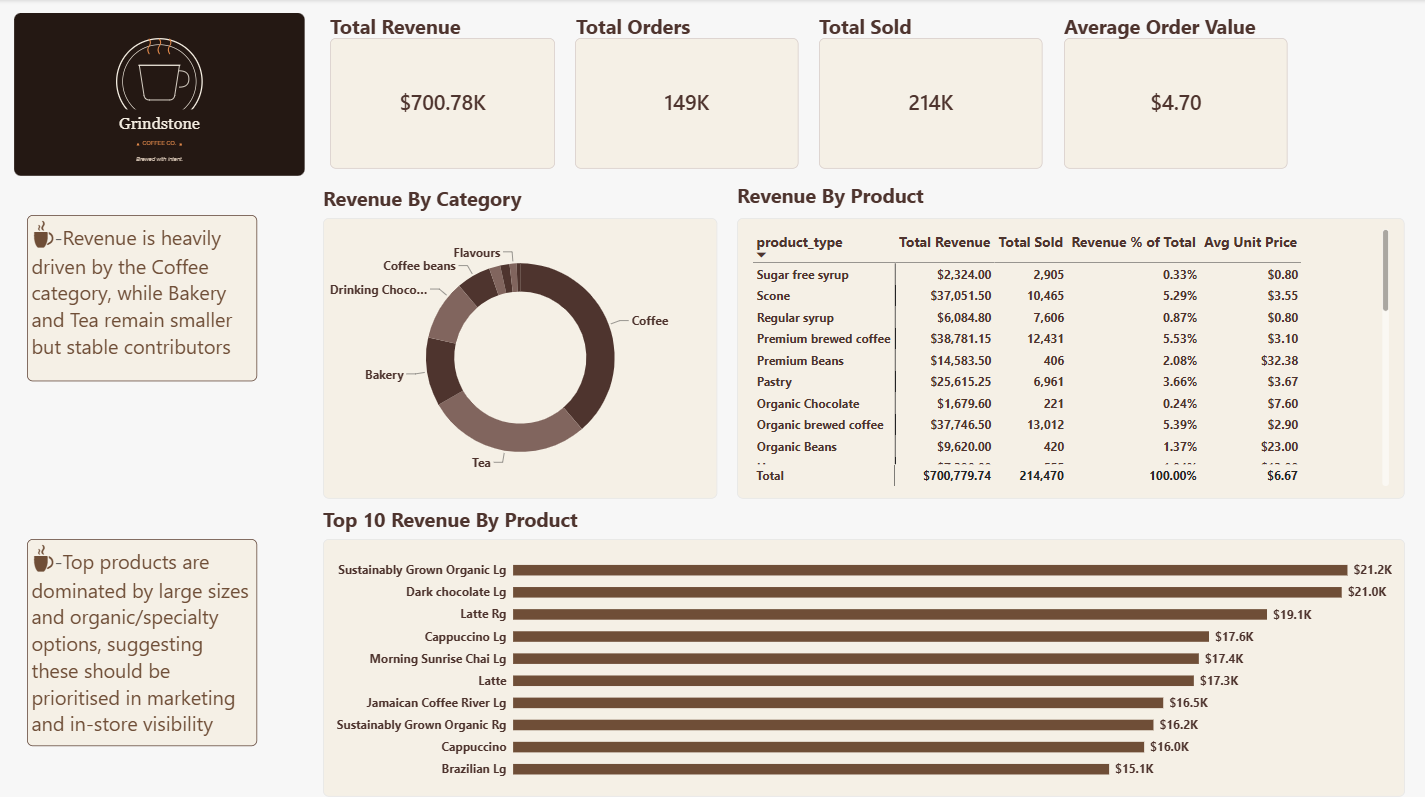

This screenshot's page, from the dashboard's own definition file:
{"tool":"powerbi","page":{"name":"Production Insights","canvas":[1920,1080],"ordinal":1},"visuals":[{"type":"donutChart","fields":{"Category":["Product.product_category"],"Y":["Measure Table.Total Revenue"]},"box":[435.6,294.4,531.4,378.1],"z":0},{"type":"pivotTable","fields":{"Rows":["Product.product_type"],"Values":["Measure Table.Total Revenue","Measure Table.Total Qty Sold","Measure Table.Revenue % of Total","Measure Table.Avg Unit Price"]},"box":[993.1,294.4,899,378.1],"z":1000},{"type":"image","box":[0,18.9,435,224.9],"z":2000},{"type":"card","fields":{"Values":["Measure Table.Total Qty Sold"]},"box":[1103.4,52.2,301.4,176],"z":3000},{"type":"card","fields":{"Values":["Measure Table.Total Orders"]},"box":[774.7,52.2,301.4,176],"z":4000},{"type":"card","fields":{"Values":["Measure Table.Avg Order Value"]},"box":[1432.2,52.2,301.4,176],"z":5000},{"type":"card","fields":{"Values":["Measure Table.Total Revenue"]},"box":[444.3,52.2,303.2,176],"z":6000},{"type":"textbox","box":[444.3,17.4,374.6,45.3],"z":7000},{"type":"textbox","box":[775.3,17.4,374.6,45.3],"z":8000},{"type":"textbox","box":[1102.9,17.4,374.6,45.3],"z":9000},{"type":"textbox","box":[1432.2,17.4,374.6,45.3],"z":10000},{"type":"clusteredBarChart","fields":{"Category":["Product.product_detail"],"Y":["Measure Table.Total Revenue"]},"box":[435.6,726.5,1456.6,346.7],"z":11000},{"type":"textbox","box":[435.6,681.2,374.6,45.3],"z":12000},{"type":"textbox","box":[435.6,249.1,374.6,45.3],"z":13000},{"type":"textbox","box":[993.1,245.7,374.6,45.3],"z":14000}]}

Visuals, with their boxes in screenshot pixels (x1, y1, x2, y2), scaled from the page's 1920x1080 canvas onto the 1425x797 screenshot:
donutChart - Product.product_category x Measure Table.Total Revenue: [323, 217, 718, 496]
pivotTable - Product.product_type x Measure Table.Total Revenue: [737, 217, 1404, 496]
image: [0, 14, 323, 180]
card - Measure Table.Total Qty Sold: [819, 39, 1043, 168]
card - Measure Table.Total Orders: [575, 39, 799, 168]
card - Measure Table.Avg Order Value: [1063, 39, 1287, 168]
card - Measure Table.Total Revenue: [330, 39, 555, 168]
textbox: [330, 13, 608, 46]
textbox: [575, 13, 853, 46]
textbox: [819, 13, 1097, 46]
textbox: [1063, 13, 1341, 46]
clusteredBarChart - Product.product_detail x Measure Table.Total Revenue: [323, 536, 1404, 792]
textbox: [323, 503, 601, 536]
textbox: [323, 184, 601, 217]
textbox: [737, 181, 1015, 215]
